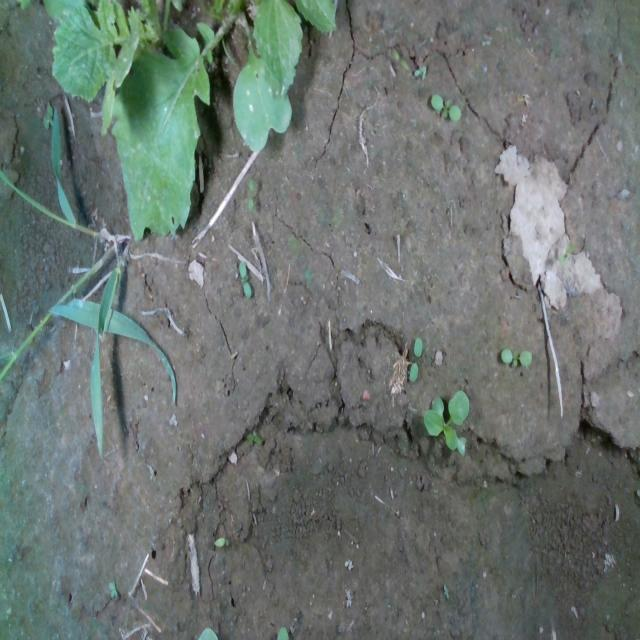weed: (408, 336, 422, 383)
